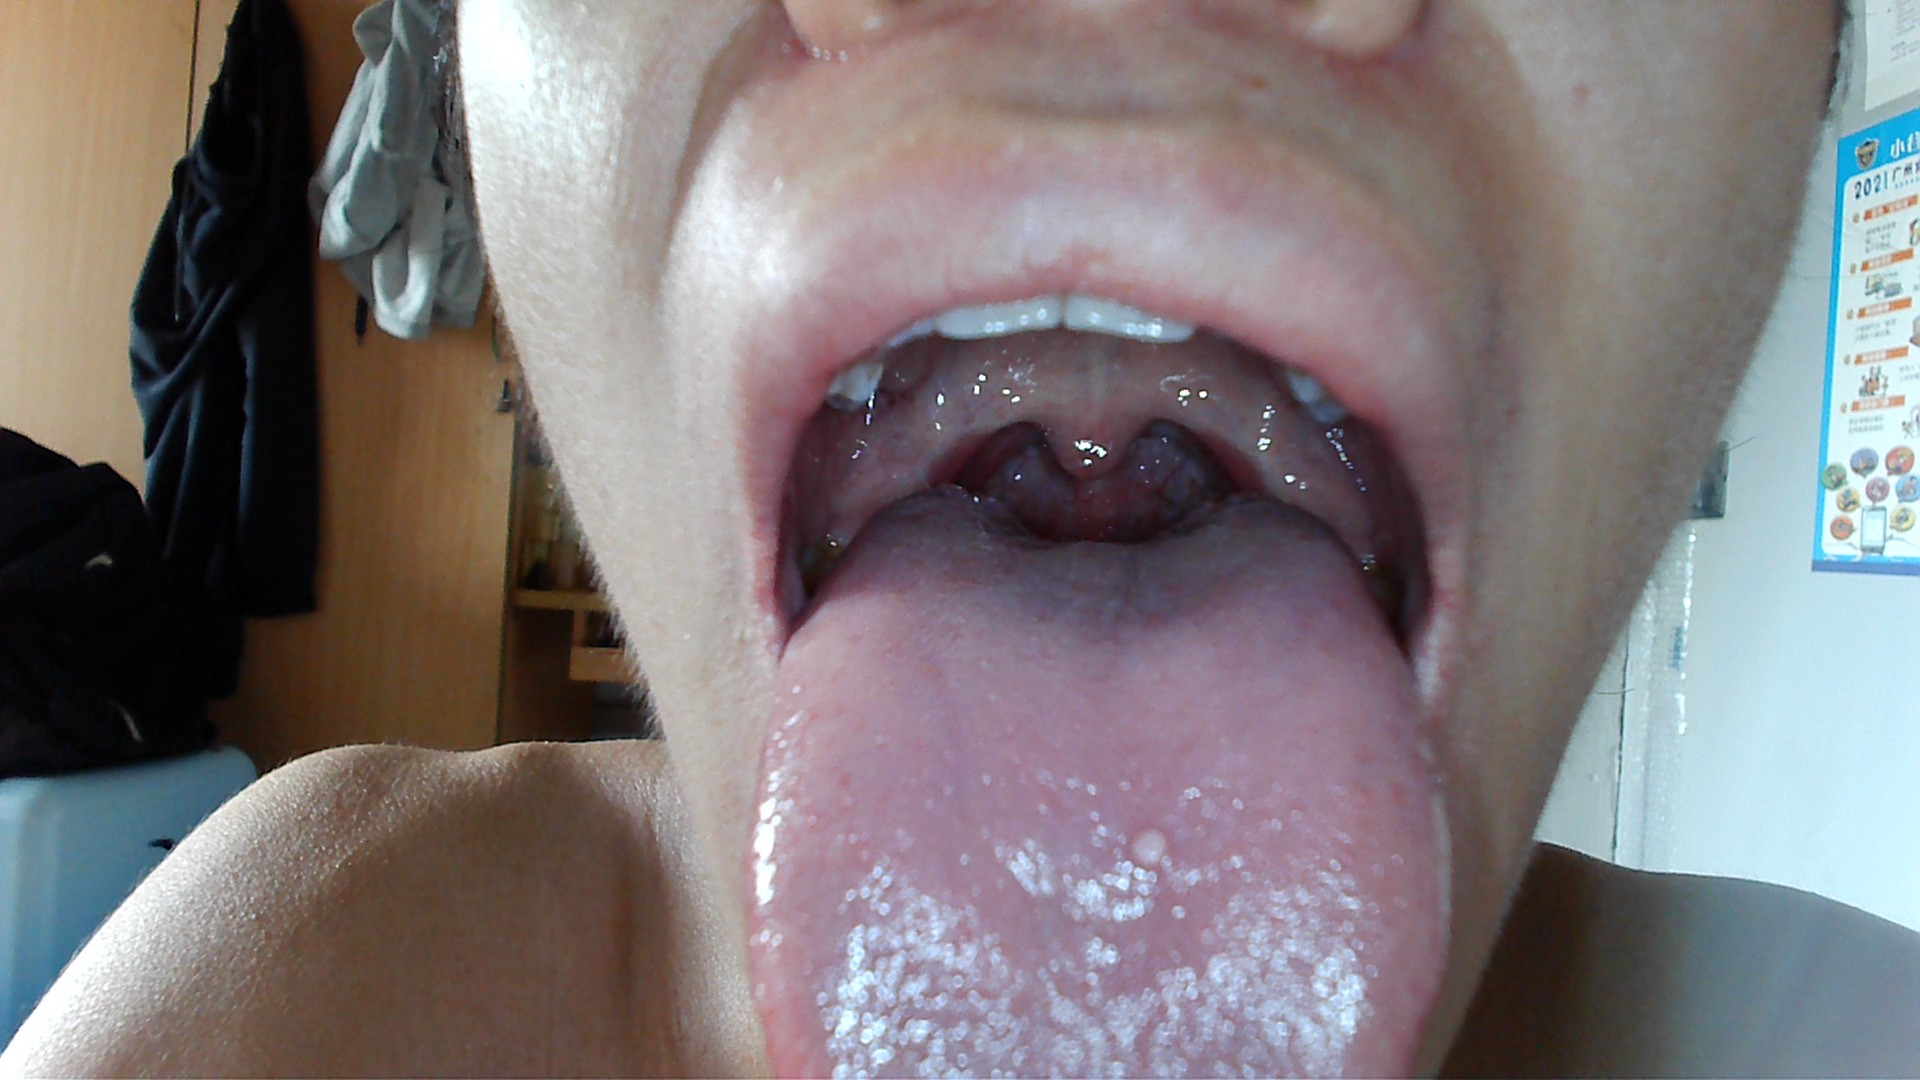throat: (1203, 376, 1282, 488), (902, 396, 986, 484)
